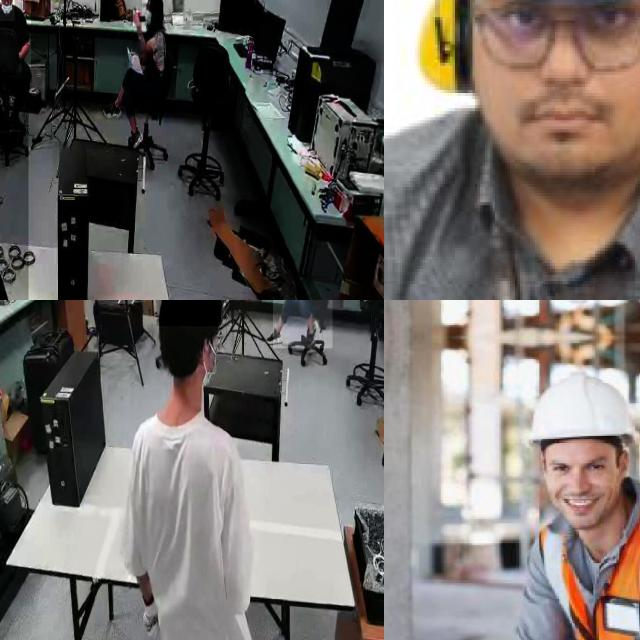Ear-protection: (397, 0, 640, 96)
No_Ear-Protection: (617, 448, 630, 485)
No_Glasses: (544, 452, 612, 478)
face_mask: (141, 0, 156, 32), (0, 0, 14, 21)
hand_noglove: (133, 10, 140, 28)
head_helmet: (530, 373, 636, 441)
head_nohelmet: (156, 300, 221, 327), (146, 0, 163, 6)
person: (123, 300, 264, 640), (100, 0, 171, 153), (273, 300, 333, 349), (0, 0, 31, 73)
shoes: (101, 96, 121, 122), (304, 317, 318, 349), (266, 327, 282, 347)
